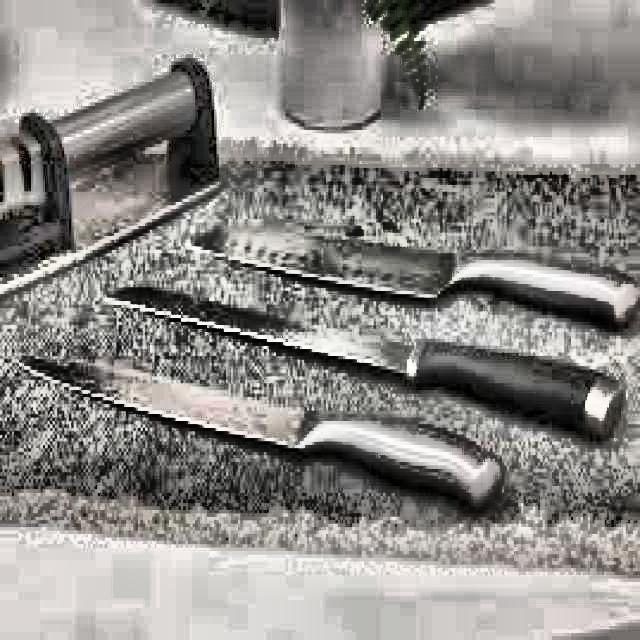knife: (98, 268, 640, 448), (9, 347, 510, 515), (190, 216, 640, 325)
